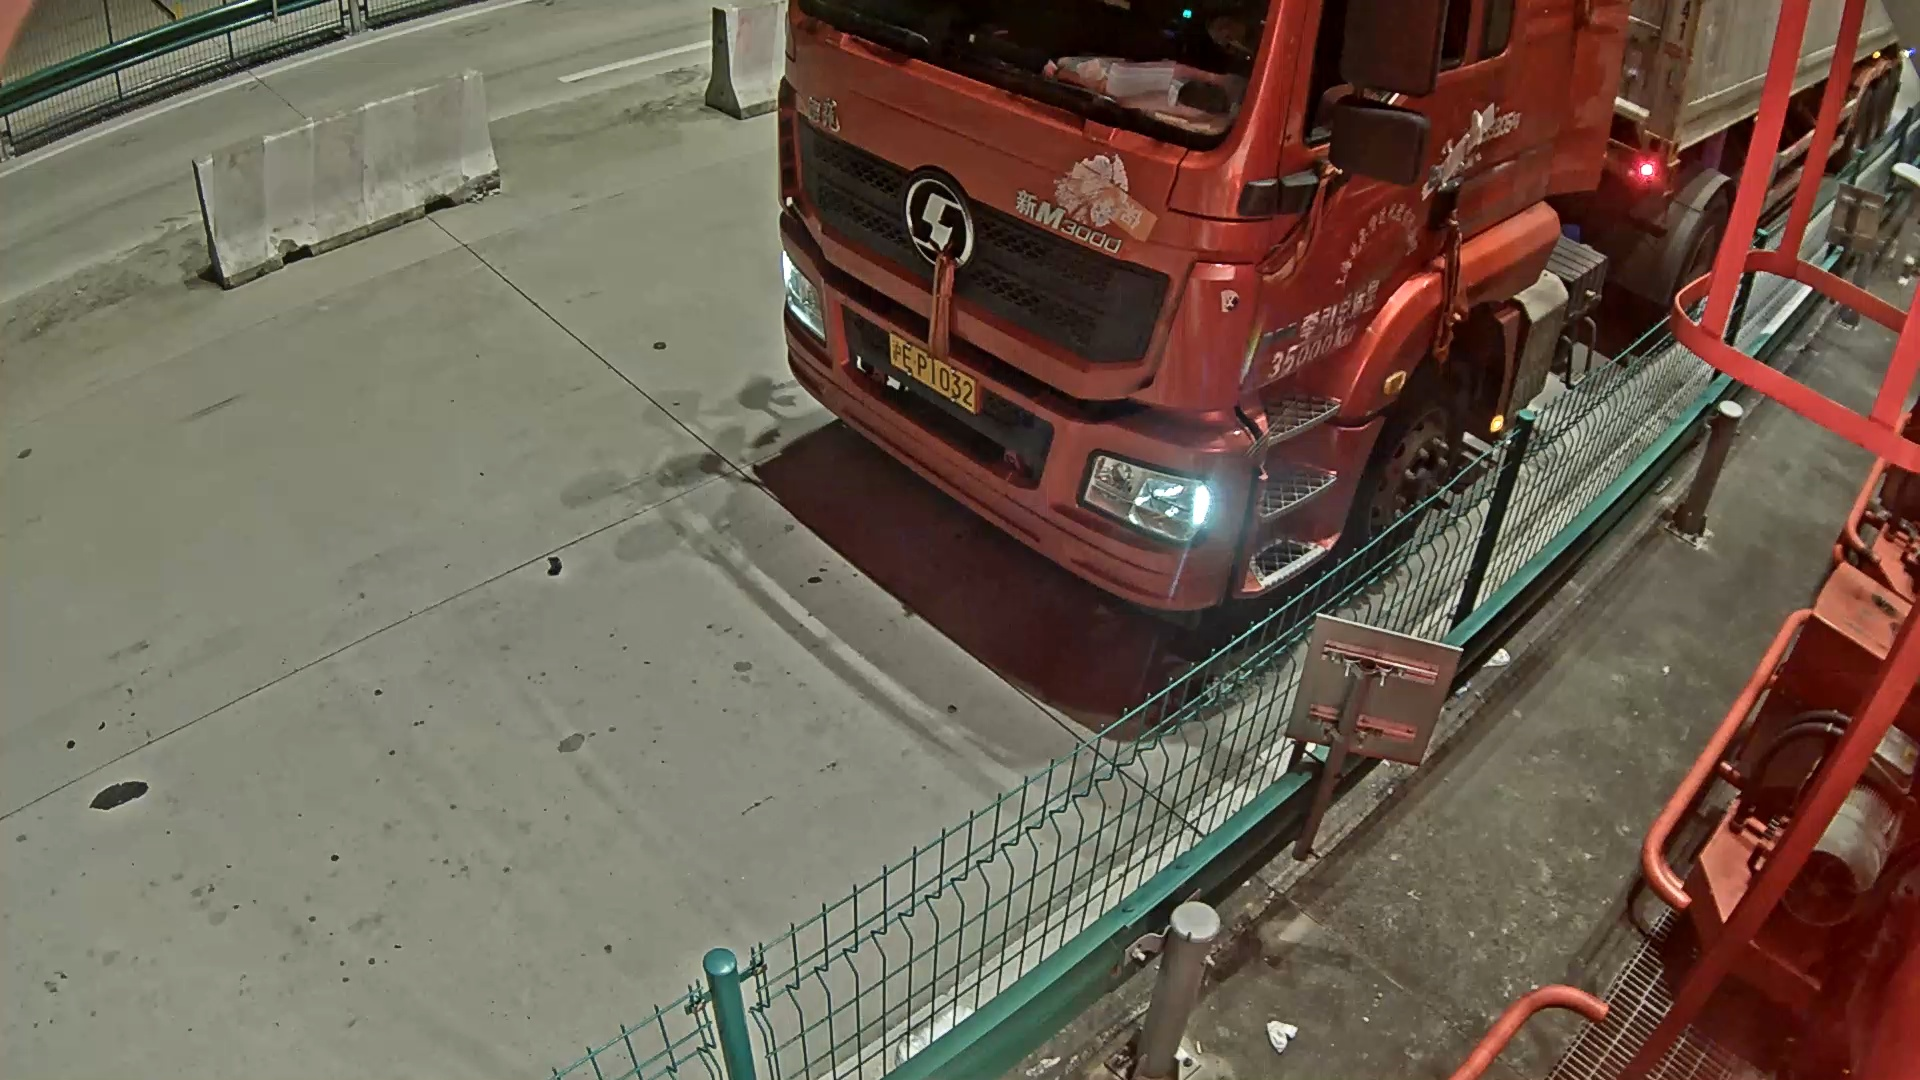head: (780, 19, 1405, 633)
plate: (872, 330, 1014, 422)
